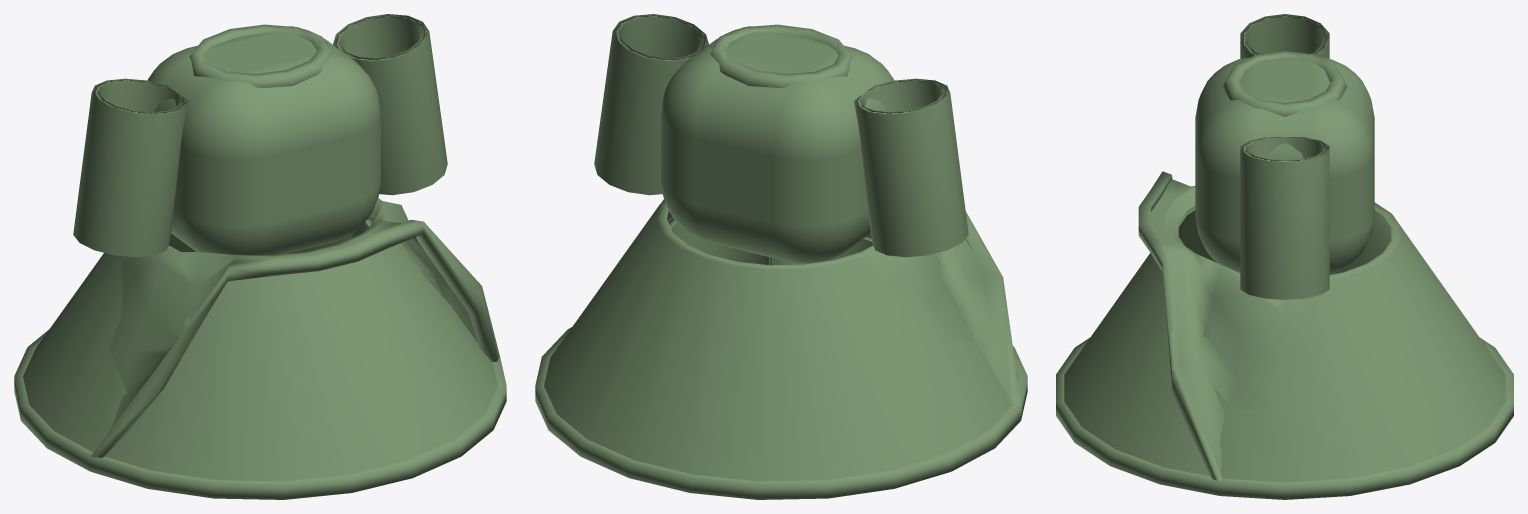
Rendered from balmacaan_coat.glb.
The picture shows the model from 3 angles, left to right: view 1: azimuth 30°, elevation 25°; view 2: azimuth 150°, elevation 25°; view 3: azimuth 270°, elevation 25°; orthographic projection. The views are drawn at different scales.
Parts seen in each view (by area): view 1: balmacaan_coat_Body, balmacaan_coat_Body_sit, balmacaan_coat_ArmL, balmacaan_coat_ArmR; view 2: balmacaan_coat_Body, balmacaan_coat_ArmL, balmacaan_coat_Body_sit, balmacaan_coat_ArmR, balmacaan_coat_LegR_sit; view 3: balmacaan_coat_Body, balmacaan_coat_Body_sit, balmacaan_coat_ArmR, balmacaan_coat_ArmL.
Part boxes in pixels (box(x1,y1,x2,y2)): balmacaan_coat_Body: box(14, 24, 506, 499); balmacaan_coat_Body_sit: box(90, 51, 499, 457); balmacaan_coat_ArmL: box(73, 78, 188, 257); balmacaan_coat_ArmR: box(333, 14, 447, 195); balmacaan_coat_Body: box(535, 24, 1027, 499); balmacaan_coat_ArmL: box(853, 78, 968, 257); balmacaan_coat_Body_sit: box(661, 49, 1020, 405); balmacaan_coat_ArmR: box(594, 14, 708, 195); balmacaan_coat_LegR_sit: box(667, 217, 772, 265); balmacaan_coat_Body: box(1056, 51, 1513, 499); balmacaan_coat_Body_sit: box(1138, 101, 1391, 481); balmacaan_coat_ArmR: box(1240, 137, 1329, 299); balmacaan_coat_ArmL: box(1240, 14, 1329, 58).
Size of the model in its own units: 0.748 by 0.6289 by 0.7404.
